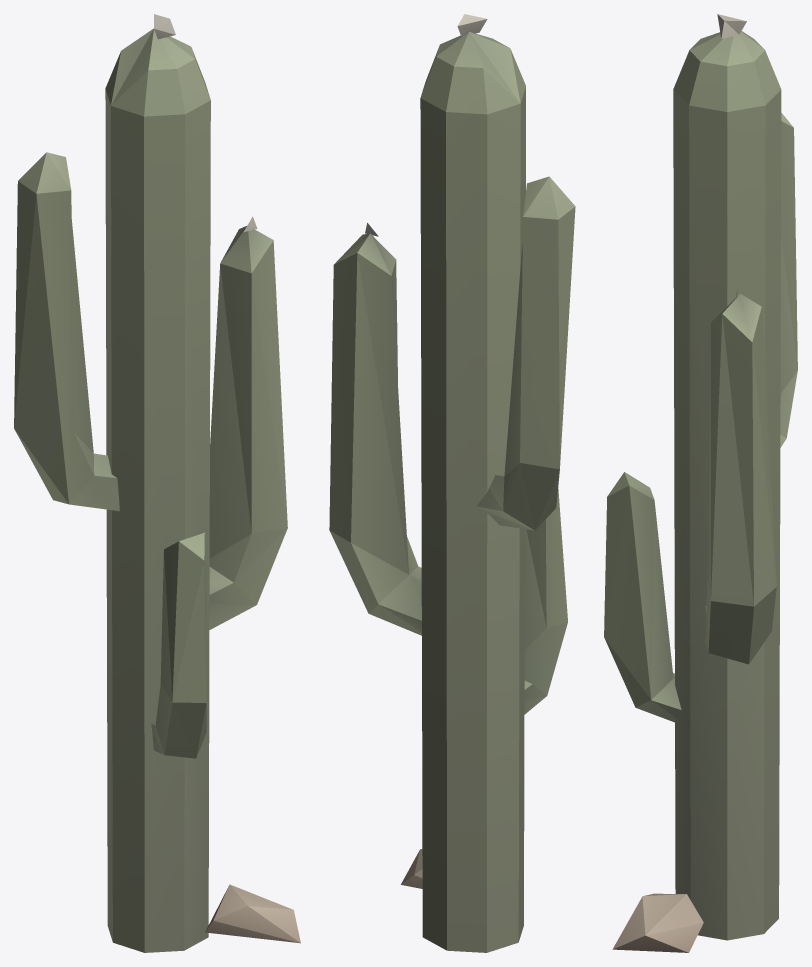
Rendered from saguaro.lod2.glb.
3 renders of one model, left to right at view 1: azimuth 30°, elevation 25°; view 2: azimuth 150°, elevation 25°; view 3: azimuth 270°, elevation 25°, orthographic.
Bounding box in the file's own units: 1.27 × 4.5 × 0.877.
